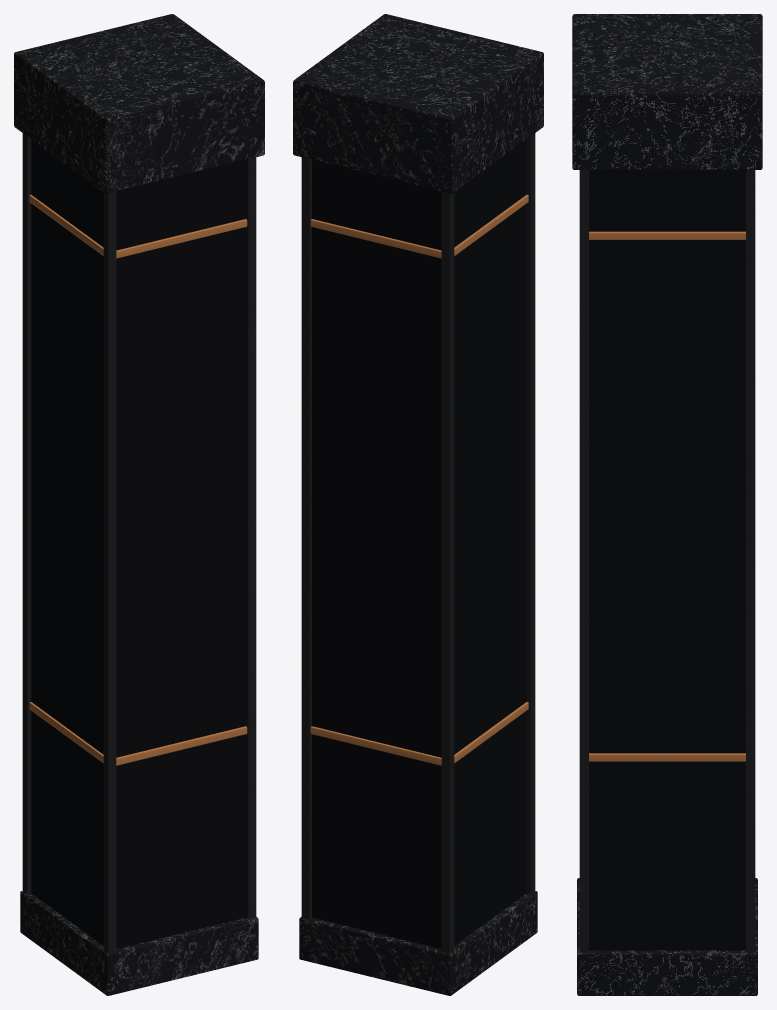
Rendered from SM_EC_Column.glb.
3 renders of one model, left to right at view 1: azimuth 30°, elevation 25°; view 2: azimuth 150°, elevation 25°; view 3: azimuth 270°, elevation 25°, orthographic. The views are drawn at different scales.
Parts seen in each view (by area): view 1: SM_EC_Column; view 2: SM_EC_Column; view 3: SM_EC_Column.
Part boxes in pixels (x1,y1,x2,y2): SM_EC_Column: [14, 14, 264, 995]; SM_EC_Column: [293, 14, 543, 995]; SM_EC_Column: [572, 14, 762, 995].
Bounding box in the file's own units: 0.8 × 4.2 × 0.8.
Materials: 4 (4 with a texture image).
